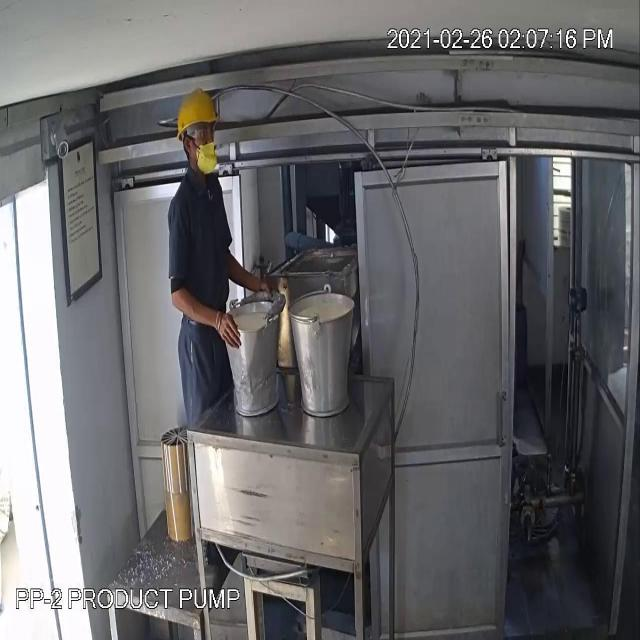hard-hat: (175, 88, 217, 140)
person: (166, 88, 281, 427)
